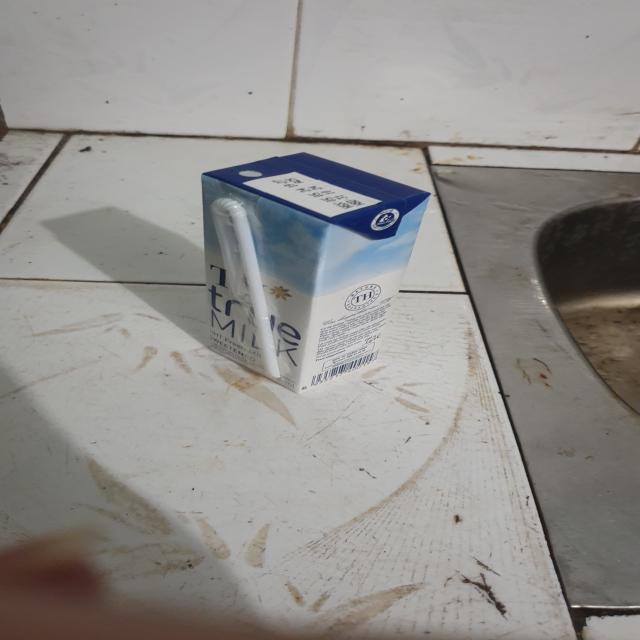TH: (201, 153, 434, 394)
